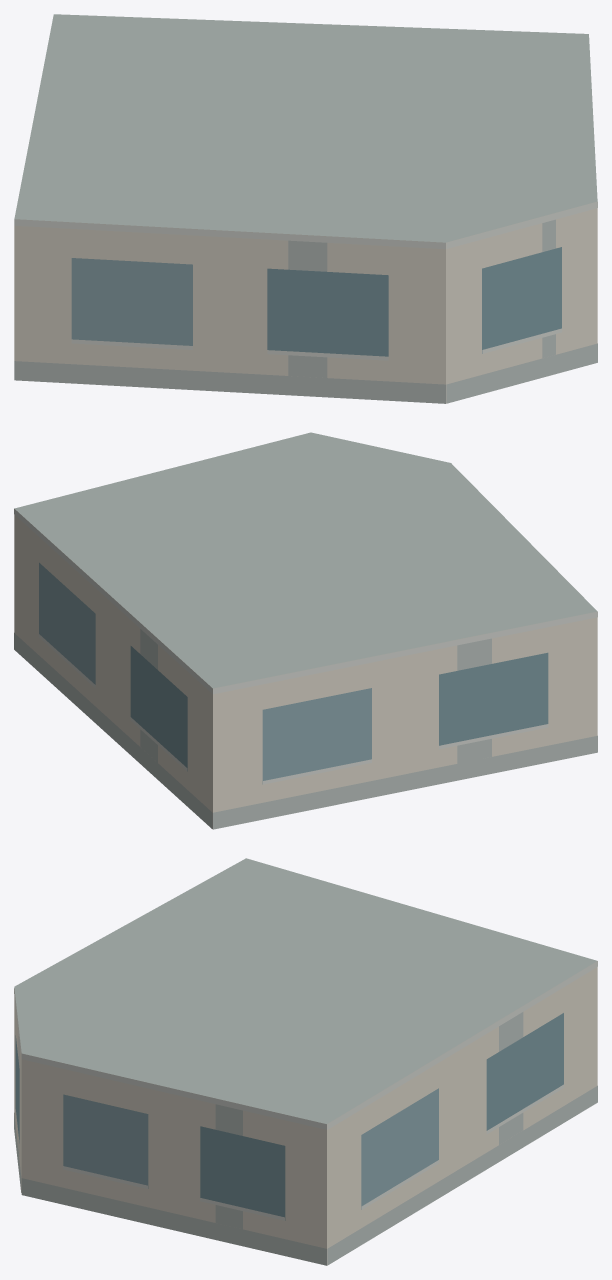
Rendered from residential-0375ea12-1855-4e69-a7b1-5f735d3d7ea4.glb.
3 renders of one model, top to bottom at view 1: azimuth 30°, elevation 25°; view 2: azimuth 150°, elevation 25°; view 3: azimuth 270°, elevation 25°, orthographic. The views are drawn at different scales.
Visible parts, largest first — view 1: residential-0375ea12-1855-4e69-a7b1-5f735d3d7ea4.tmp; view 2: residential-0375ea12-1855-4e69-a7b1-5f735d3d7ea4.tmp; view 3: residential-0375ea12-1855-4e69-a7b1-5f735d3d7ea4.tmp.
Part boxes in pixels (bbox=[...]): residential-0375ea12-1855-4e69-a7b1-5f735d3d7ea4.tmp: bbox=[14, 14, 597, 403]; residential-0375ea12-1855-4e69-a7b1-5f735d3d7ea4.tmp: bbox=[14, 432, 597, 829]; residential-0375ea12-1855-4e69-a7b1-5f735d3d7ea4.tmp: bbox=[14, 858, 597, 1265].
Bounding box in the file's own units: 12.31 × 3.05 × 11.41.
